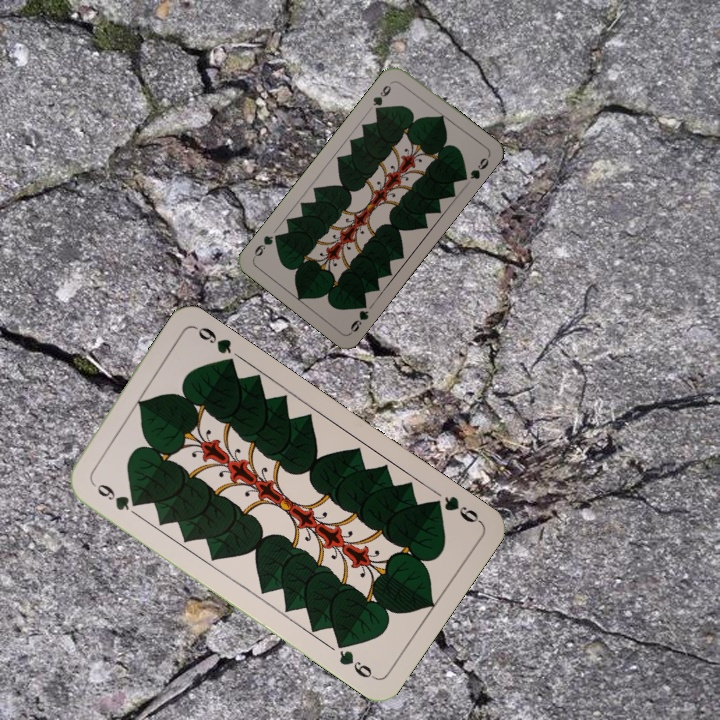G9: (87, 476, 143, 514), (425, 492, 484, 526), (368, 77, 396, 115), (346, 297, 371, 336)
